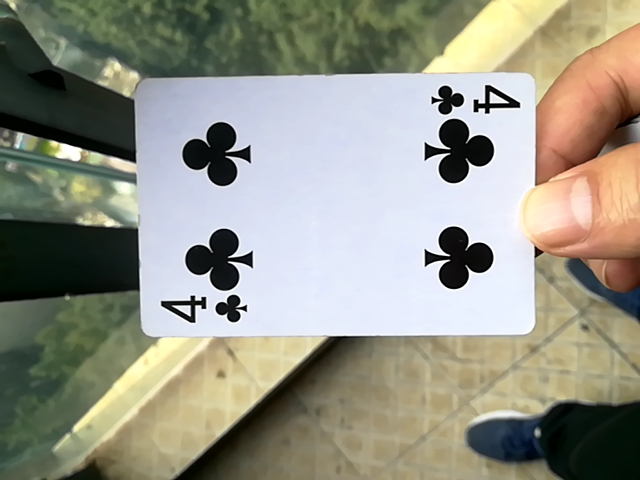mh 4: (128, 57, 541, 342)
